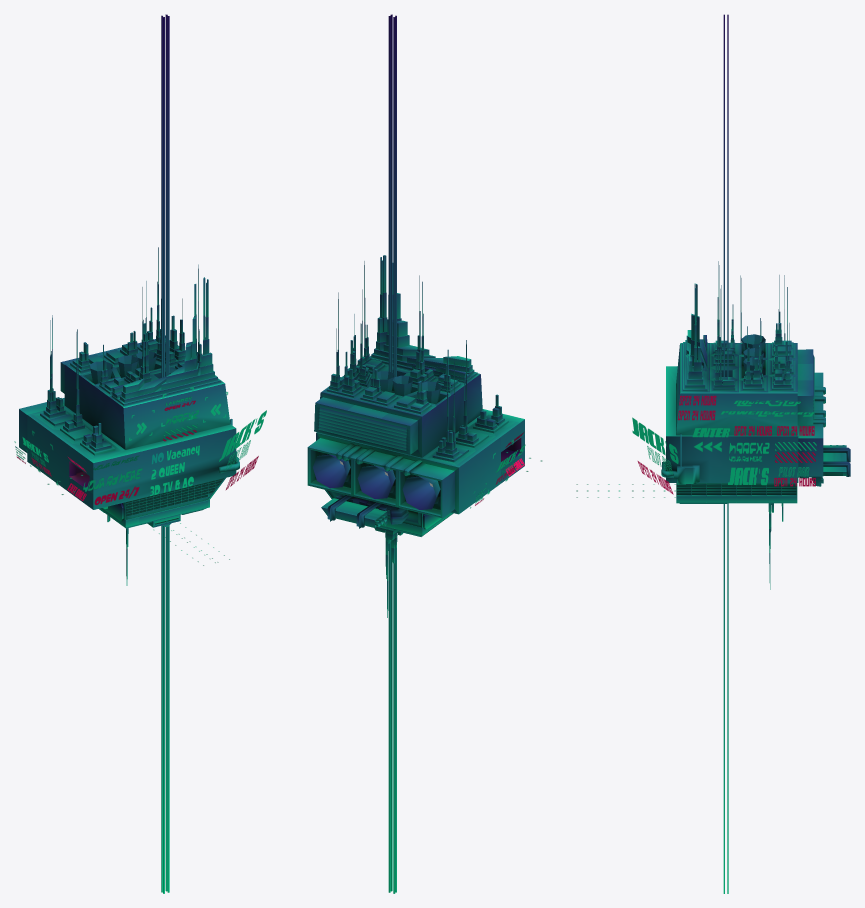
The picture shows the model from 3 angles, left to right: view 1: azimuth 30°, elevation 25°; view 2: azimuth 150°, elevation 25°; view 3: azimuth 270°, elevation 25°; orthographic projection.
Parts seen in each view (by area): view 1: Cube2_sep44, Cube2_copy46, Cube1, Cube2_sep12; view 2: Cube2_copy46, Cube2_sep44, Cube1, Cube2_sep9, Cube26, Cube2_cut25, Cube2_sep12; view 3: Cube2_copy46, Cube2_sep44, Cube2_sep12, Cube1, Cube2_extract36.
Part boxes in pixels (x1,y1,x2,y2): Cube2_sep44: (19,315,236,585); Cube2_copy46: (60,247,230,449); Cube1: (161,14,169,893); Cube2_sep12: (14,387,266,565); Cube2_copy46: (314,255,482,457); Cube2_sep44: (307,340,524,617); Cube1: (388,14,396,893); Cube2_sep9: (313,454,440,509); Cube26: (327,495,408,528); Cube2_cut25: (321,498,387,527); Cube2_sep12: (470,432,542,508); Cube2_copy46: (676,261,814,435); Cube2_sep44: (666,275,823,589); Cube2_sep12: (576,395,816,497); Cube1: (723,14,728,893); Cube2_extract36: (661,433,699,484).
Bounding box in the file's own units: 21.77 × 88.81 × 25.28.
Materials: 1 (1 with a texture image).
